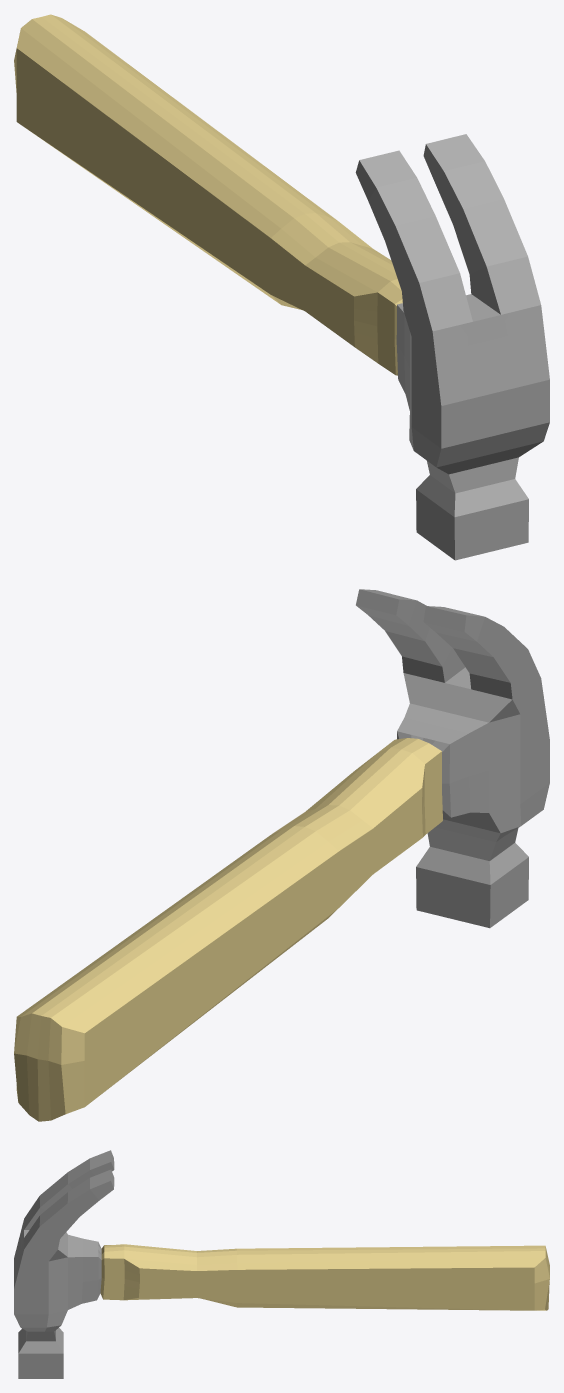
The model's file is hammer_fbx.fbx.
3 renders of one model, top to bottom at view 1: azimuth 30°, elevation 25°; view 2: azimuth 150°, elevation 25°; view 3: azimuth 270°, elevation 25°, orthographic. The views are drawn at different scales.
Visible parts, largest first — view 1: hammer; view 2: hammer; view 3: hammer.
Part boxes in pixels (box(x1,y1,x2,y2)): hammer: box(14, 14, 549, 560); hammer: box(14, 589, 549, 1121); hammer: box(14, 1150, 549, 1378).
Size of the model in its own units: 0.8436 by 2.56 by 6.14.
